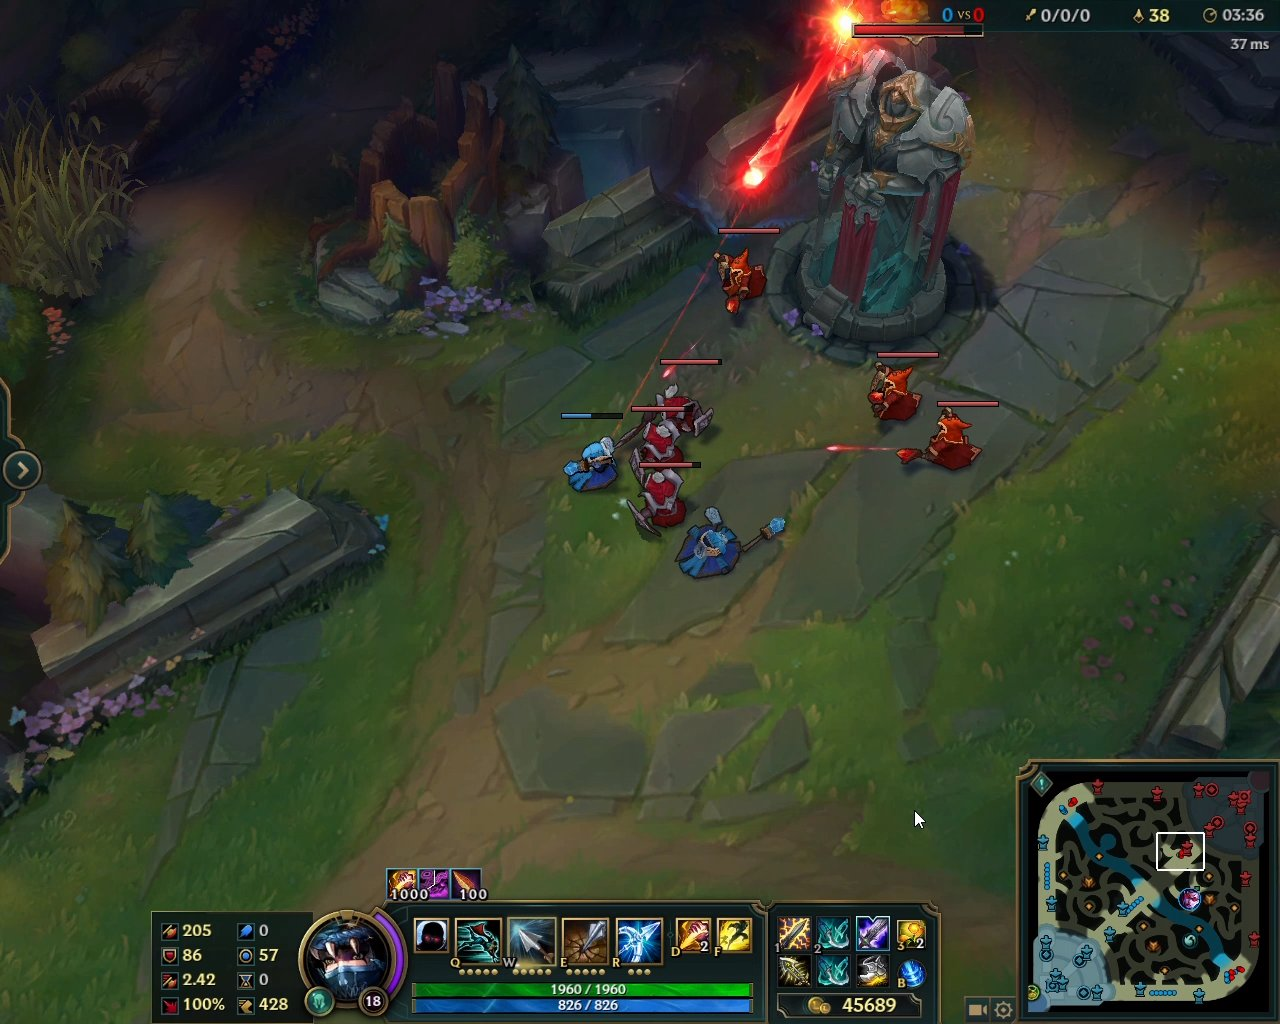EnemyMinion: (892, 402, 998, 472), (642, 356, 727, 440), (708, 226, 779, 319), (628, 458, 705, 540), (613, 406, 692, 487), (865, 349, 941, 421)
Tower: (790, 2, 1011, 347)
